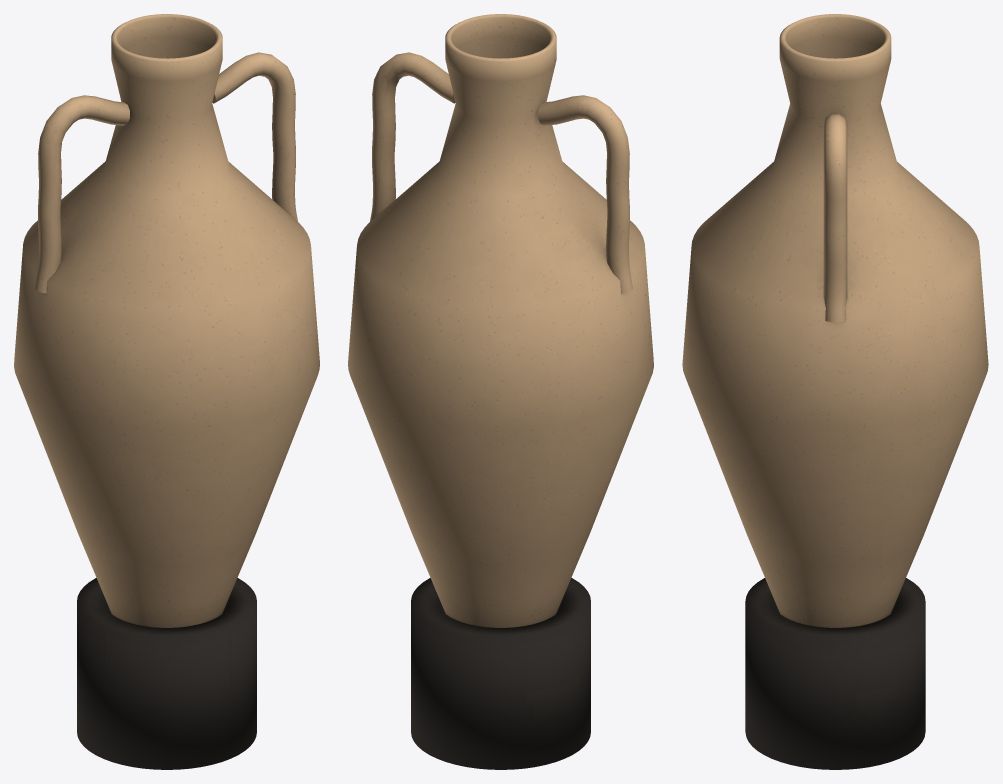
Rendered from pale-clay.glb.
The picture shows the model from 3 angles, left to right: view 1: azimuth 30°, elevation 25°; view 2: azimuth 150°, elevation 25°; view 3: azimuth 270°, elevation 25°; orthographic projection.
Parts seen in each view (by area): view 1: terracotta_primary, iron; view 2: terracotta_primary, iron; view 3: terracotta_primary, iron.
Boxes of the visible parts, bbox=[...] form: terracotta_primary: bbox=[14, 14, 319, 627]; iron: bbox=[77, 578, 256, 769]; terracotta_primary: bbox=[348, 14, 653, 627]; iron: bbox=[411, 578, 590, 769]; terracotta_primary: bbox=[682, 14, 988, 627]; iron: bbox=[745, 578, 925, 769].
Size of the model in its own units: 0.34 by 0.8525 by 0.34.
Materials: 2 (2 with a texture image).
